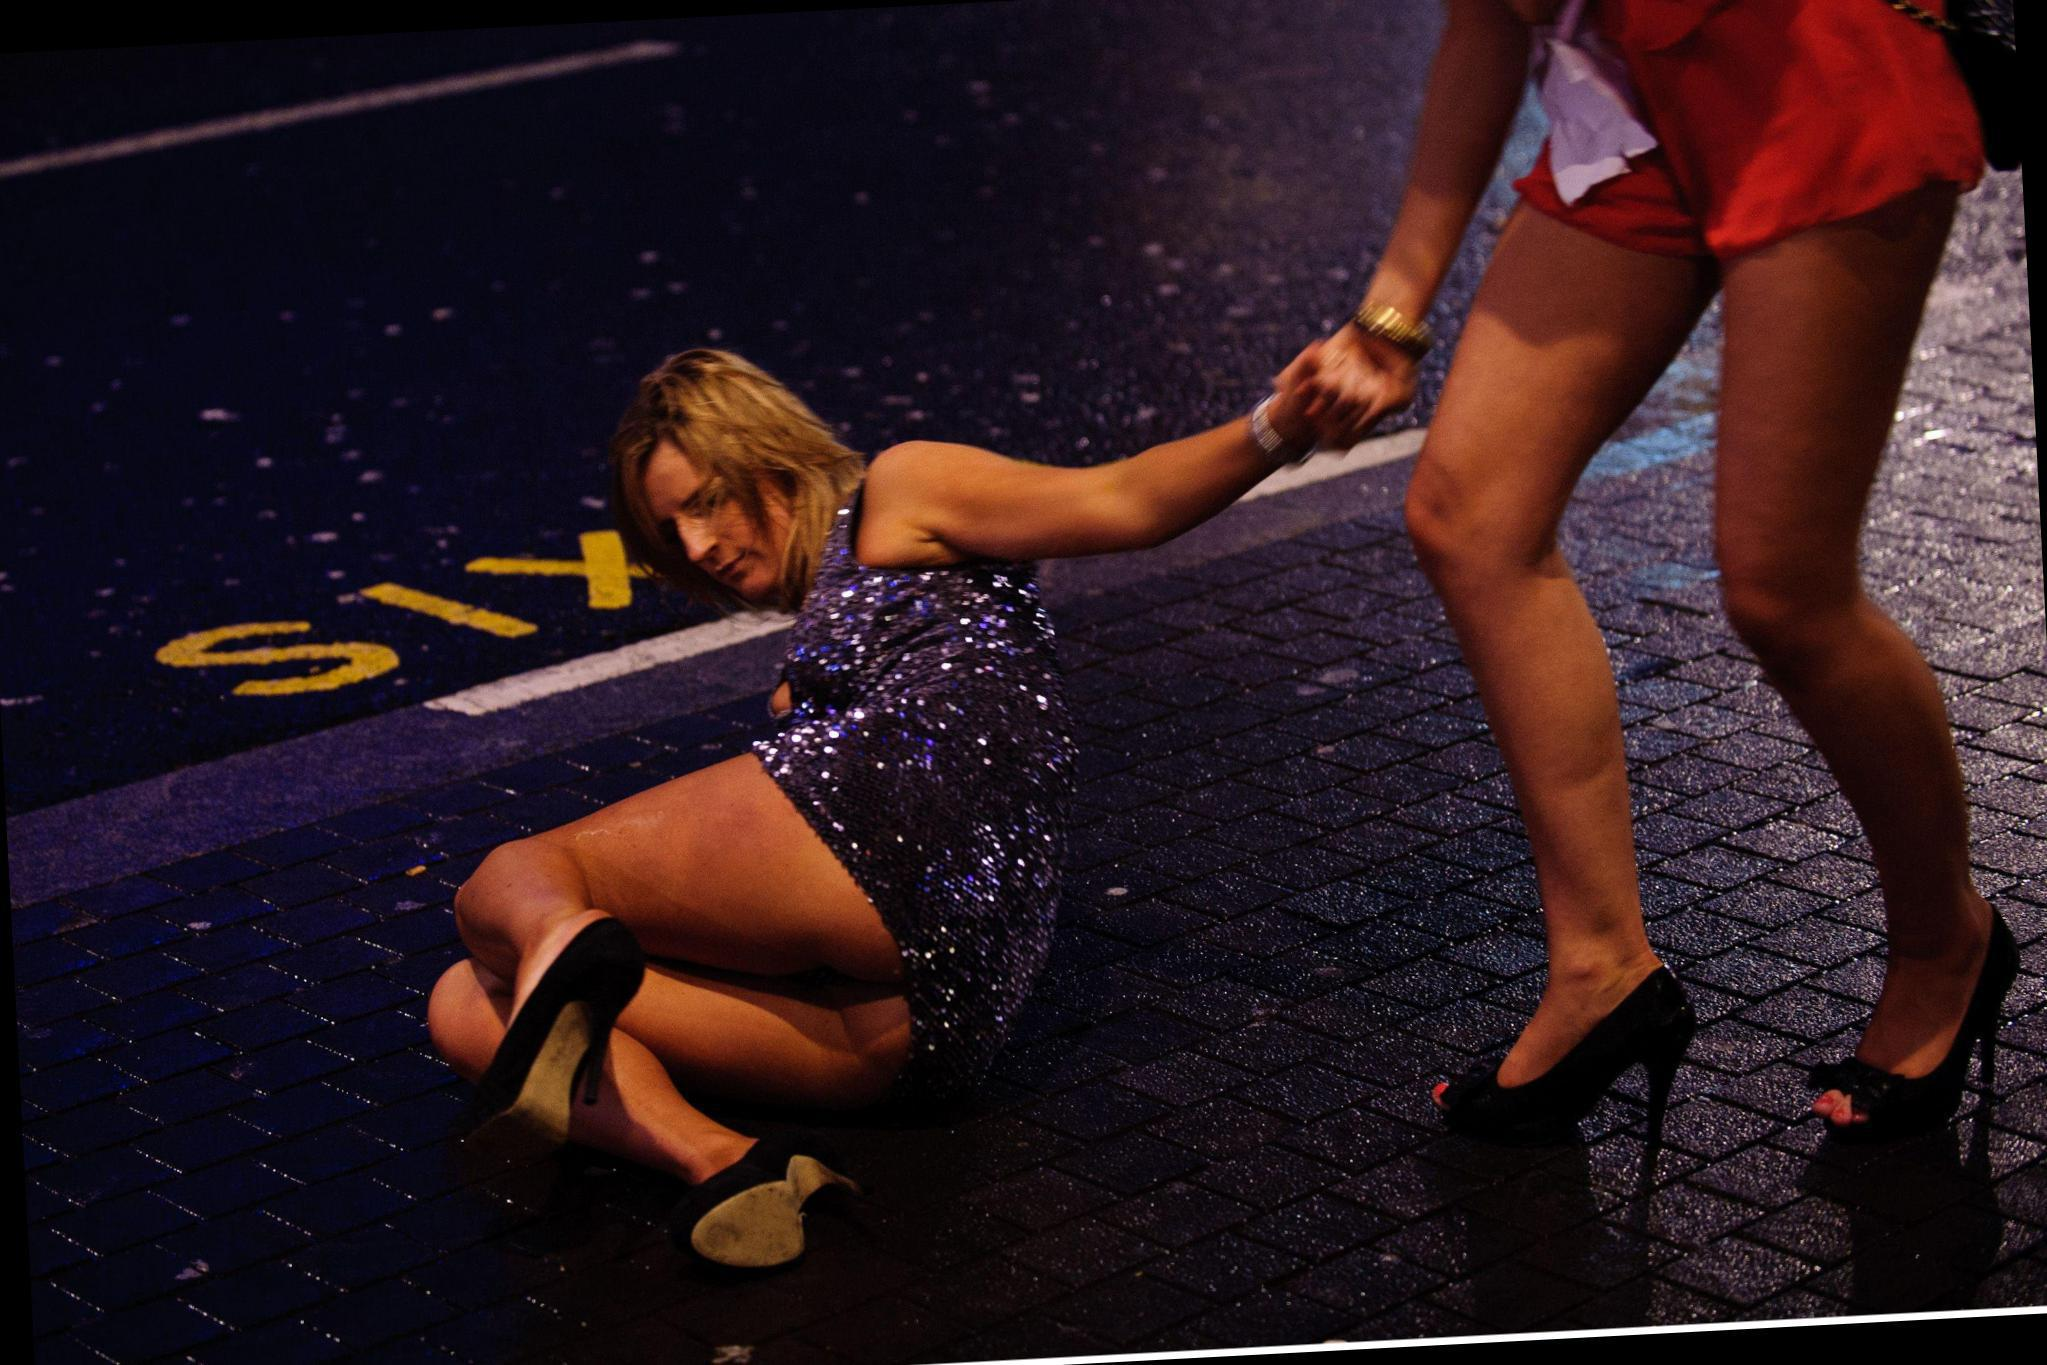Drunk: (638, 451, 794, 590)
